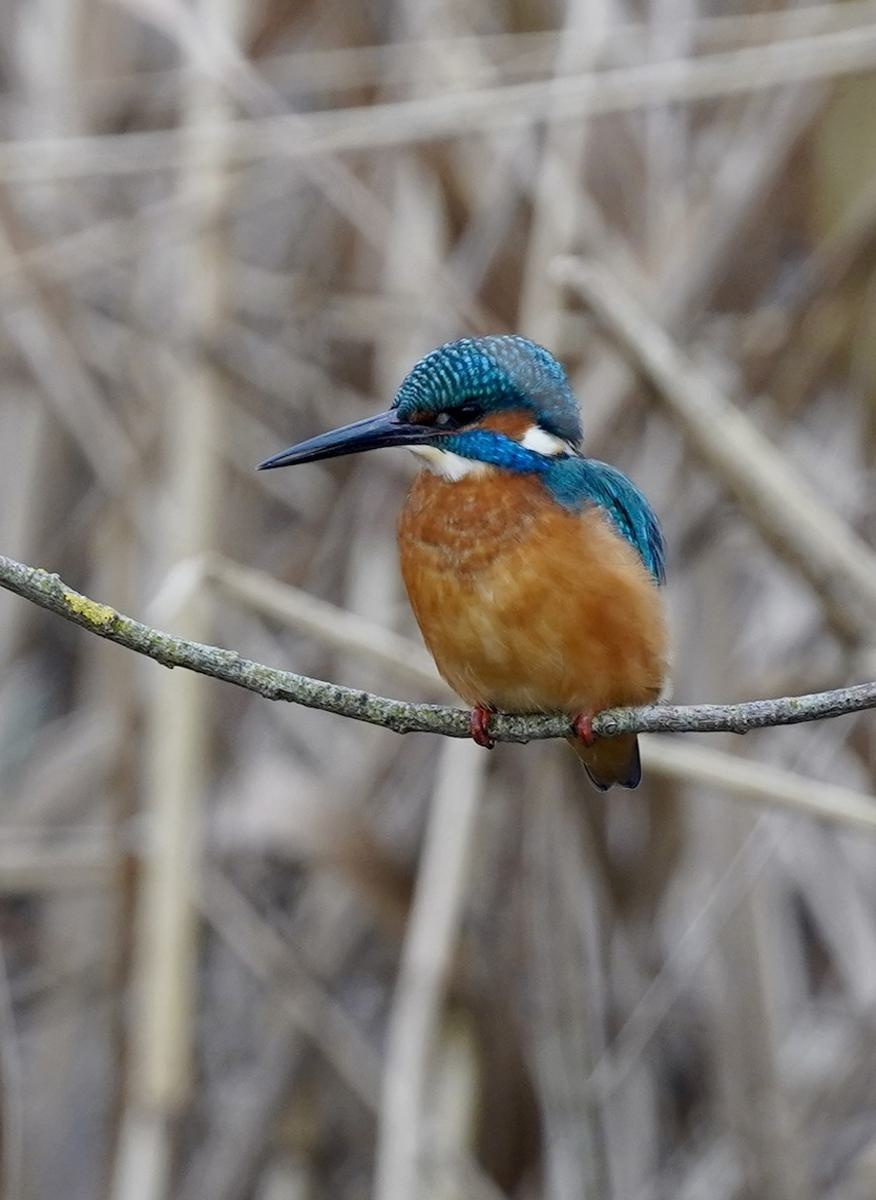kingfisher: (255, 325, 684, 803)
